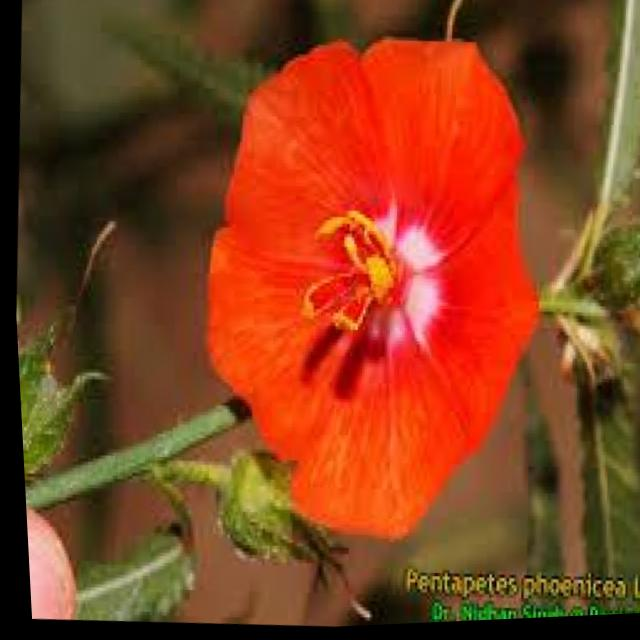Flower: (171, 18, 550, 556)
